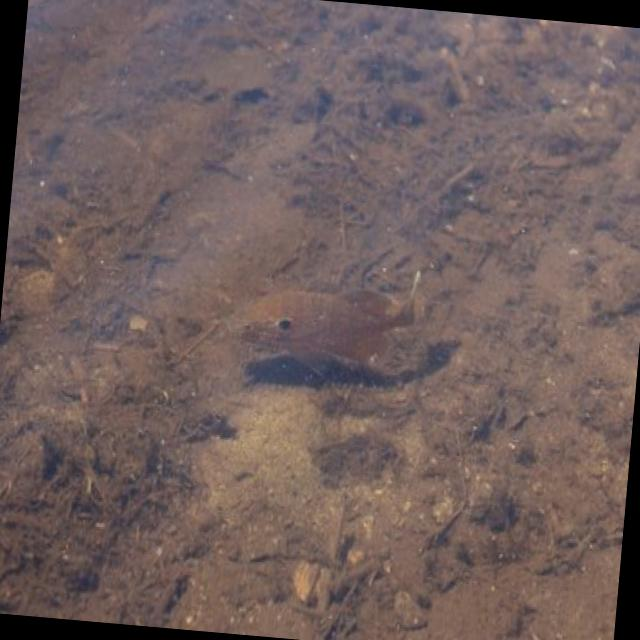Gunes Levregi: (215, 244, 429, 397)
